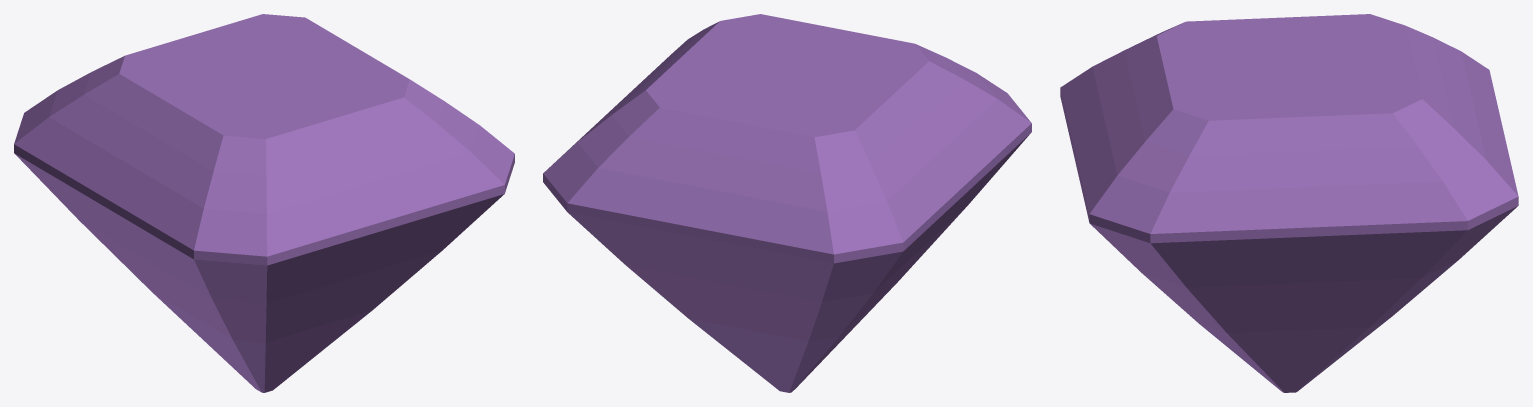
Rendered from jewelry.glb.
3 renders of one model, left to right at view 1: azimuth 30°, elevation 25°; view 2: azimuth 150°, elevation 25°; view 3: azimuth 270°, elevation 25°, orthographic. The views are drawn at different scales.
Visible parts, largest first — view 1: Gemstone Amethyst; view 2: Gemstone Amethyst; view 3: Gemstone Amethyst.
Boxes of the visible parts, x1,y1,x2,y2 form: Gemstone Amethyst: (14,14,514,392); Gemstone Amethyst: (543,14,1031,392); Gemstone Amethyst: (1060,14,1518,392).
Size of the model in its own units: 2.14 by 1.75 by 2.25.
